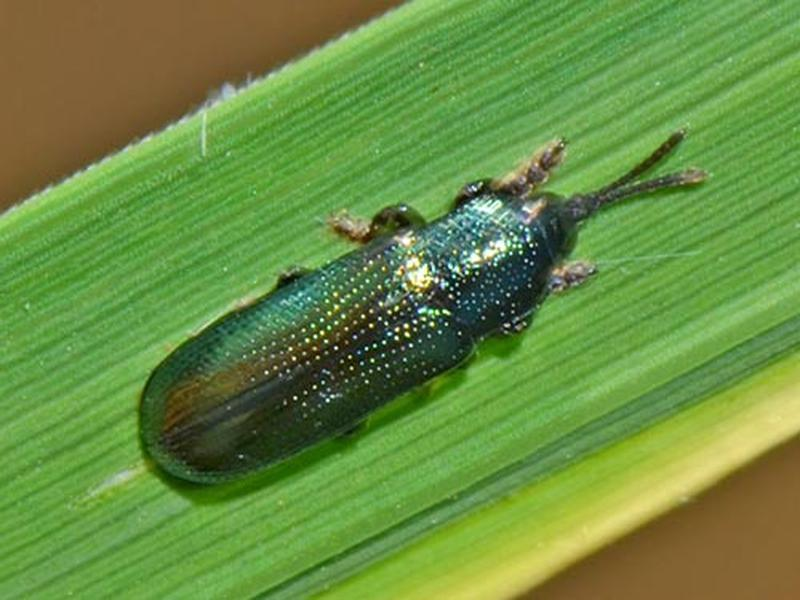Rice_horned_caterpillar: (123, 163, 594, 492)
